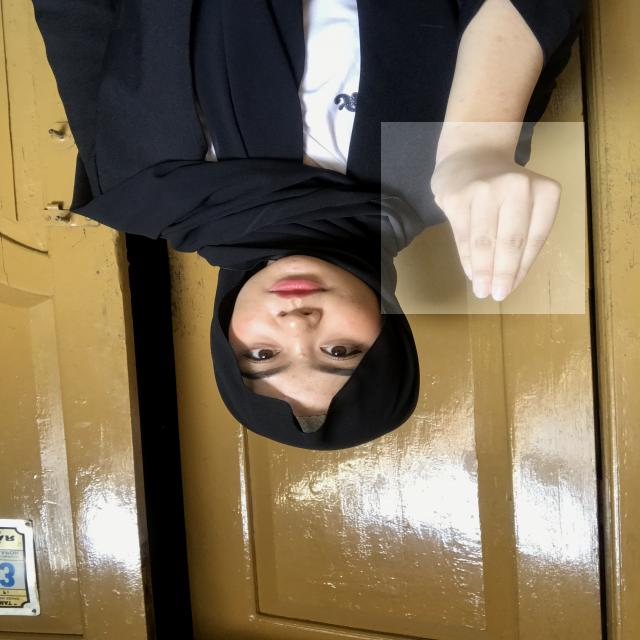kapan: (381, 122, 585, 314)
